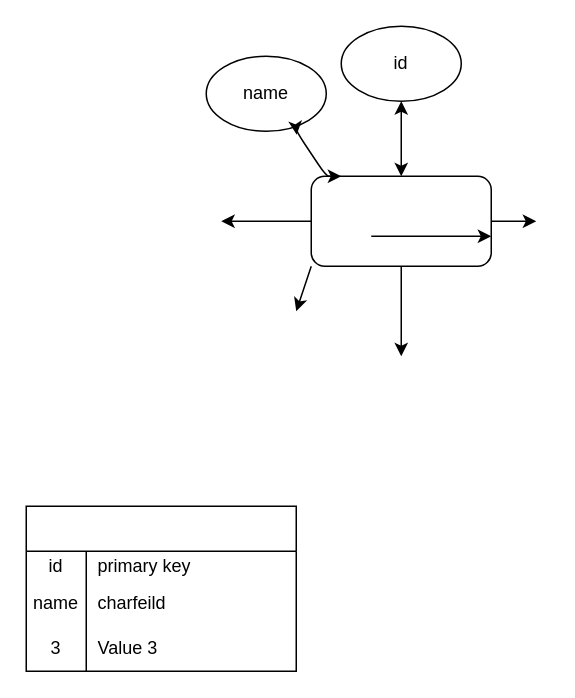
Image size: 575x698. Some labels were removed from this diagram. The box of each missing label's shape, as (x1, y1, x2, y2) in pixels:
product: (310, 175, 491, 266)
Table: (25, 505, 296, 671)
